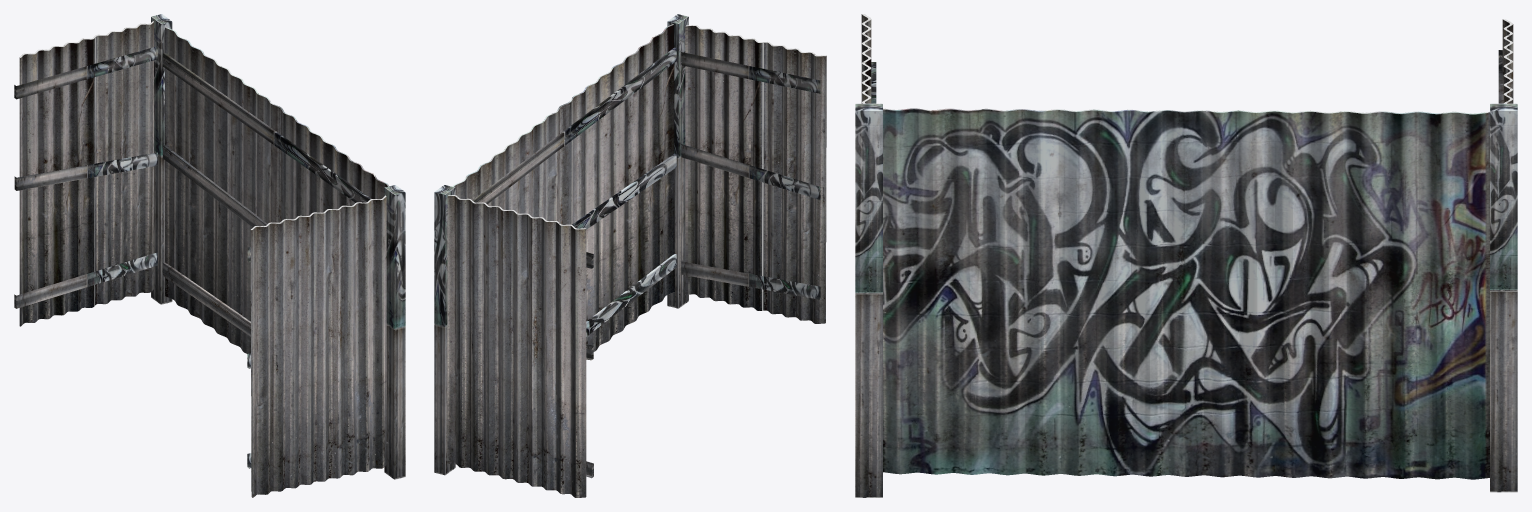
Rendered from steel.fbx.
3 renders of one model, left to right at view 1: azimuth 30°, elevation 25°; view 2: azimuth 150°, elevation 25°; view 3: azimuth 270°, elevation 25°, orthographic. The views are drawn at different scales.
Visible parts, largest first — view 1: PanelStyle_B.002; view 2: PanelStyle_B.002; view 3: PanelStyle_B.002.
Part boxes in pixels (x1,y1,x2,y2): PanelStyle_B.002: (14, 14, 405, 497); PanelStyle_B.002: (434, 14, 826, 497); PanelStyle_B.002: (855, 14, 1517, 497).
Bounding box in the file's own units: 84.88 × 151 × 234.
